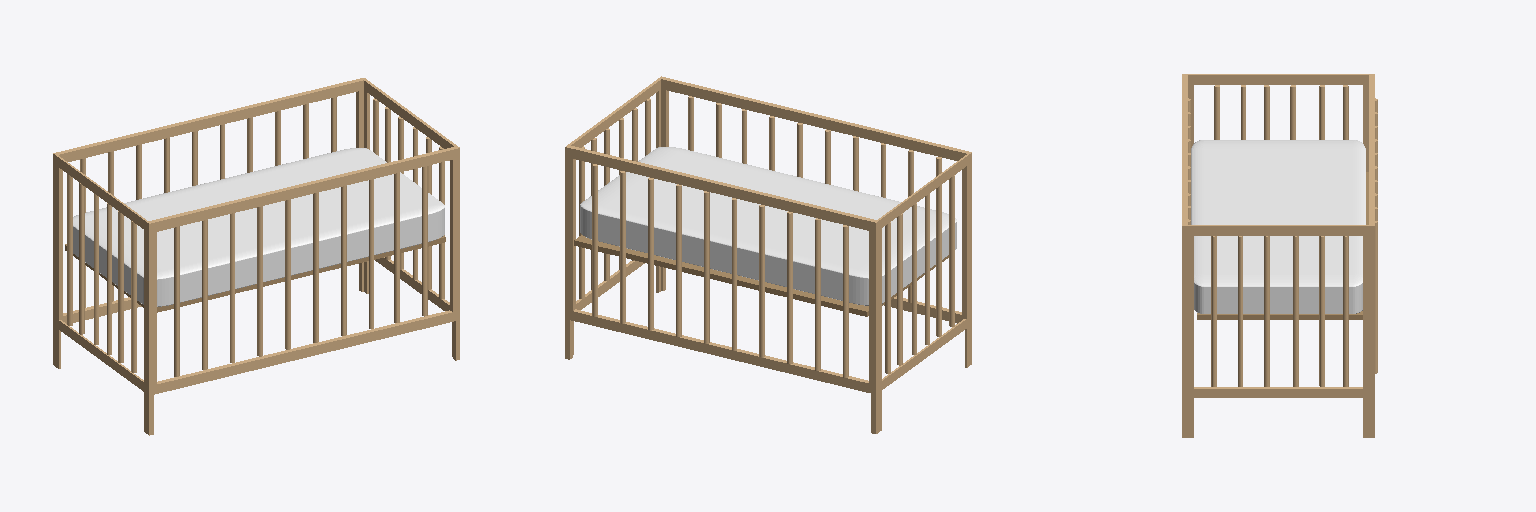
File: Cots_Sniglar.obj
The picture shows the model from 3 angles: view 1: azimuth 30°, elevation 25°; view 2: azimuth 150°, elevation 25°; view 3: azimuth 270°, elevation 25°; orthographic projection.
Parts seen in each view (by area): view 1: obj_0; view 2: obj_0; view 3: obj_0.
Boxes of the visible parts, box(x1,y1,x2,y2) form: obj_0: box(53, 78, 459, 435); obj_0: box(565, 76, 971, 433); obj_0: box(1182, 74, 1377, 437).
Size of the model in its own units: 123 by 80 by 67.